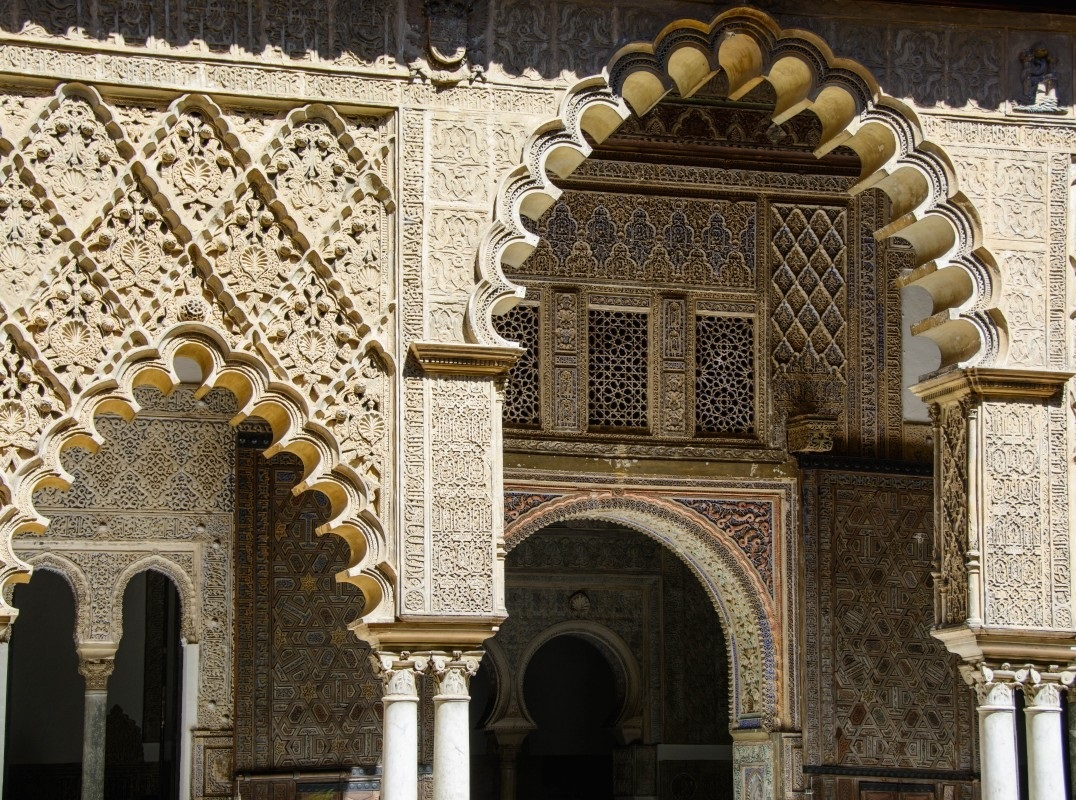arco-lobulado: (459, 1, 1005, 402), (1, 312, 404, 672)
